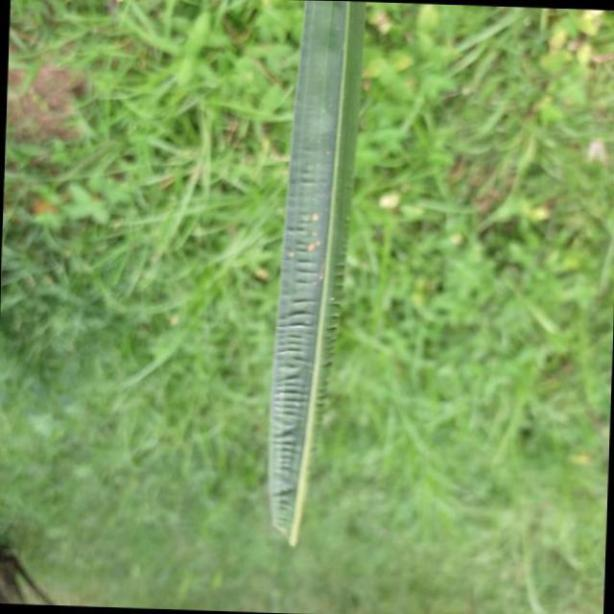Boron: (268, 0, 364, 547)
